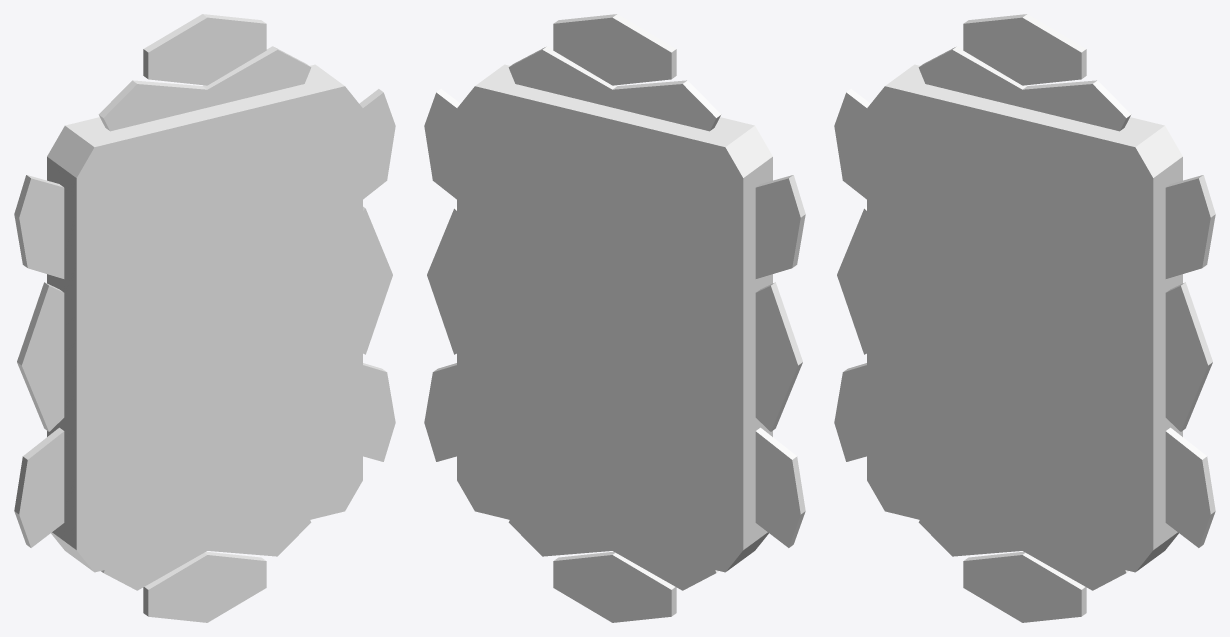
File: cardLegendary.fbx
3 views of the same model, side by side, from view 1: azimuth 30°, elevation 25°; view 2: azimuth 150°, elevation 25°; view 3: azimuth 330°, elevation 25° (orthographic).
Visible parts, largest first — view 1: emission; view 2: emission; view 3: emission.
Boxes of the visible parts, box(x1,y1,x2,y2) form: emission: box(14, 14, 395, 622); emission: box(424, 14, 805, 622); emission: box(834, 14, 1215, 622).
Size of the model in its own units: 138 by 211 by 18.75.
1 material, 1 textured.
